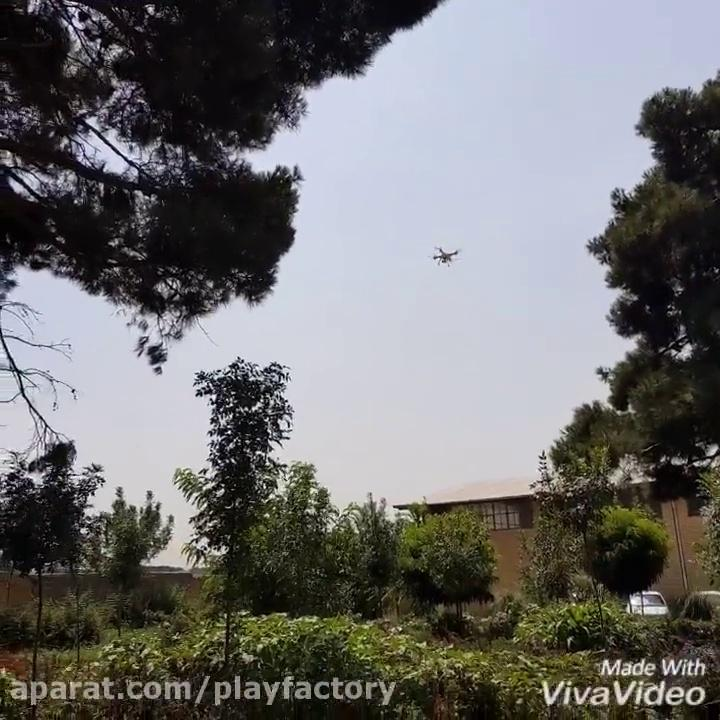drone: (426, 241, 462, 269)
